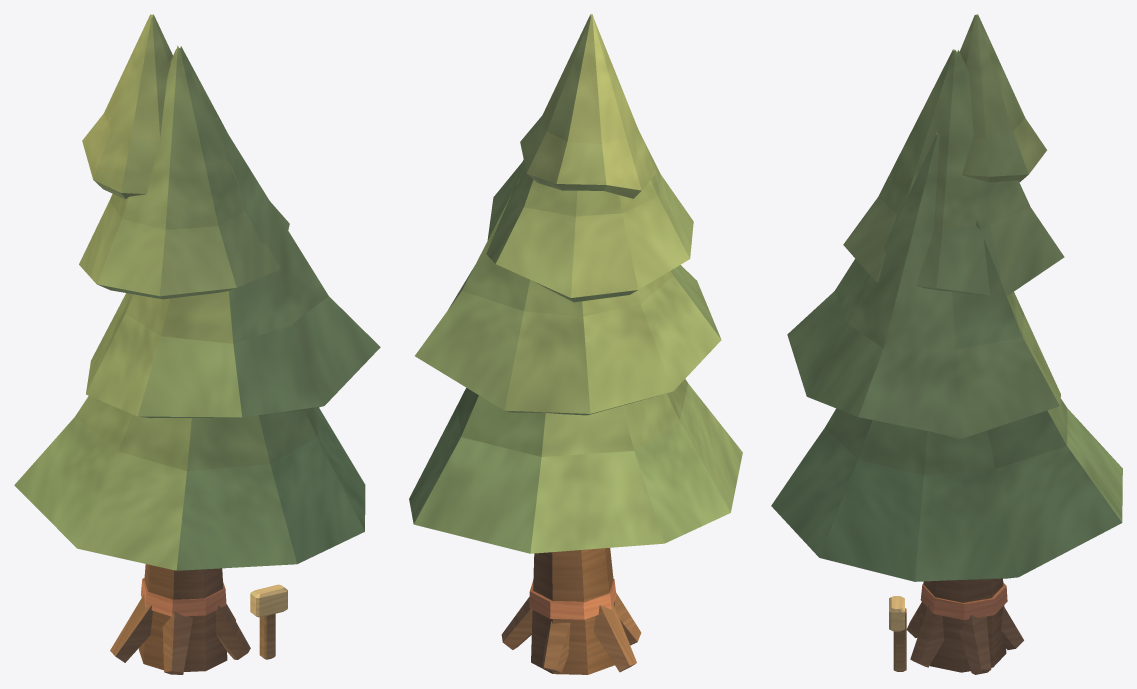
Rendered from wood_tree.glb.
The picture shows the model from 3 angles, left to right: view 1: azimuth 30°, elevation 25°; view 2: azimuth 150°, elevation 25°; view 3: azimuth 270°, elevation 25°; orthographic projection. The views are drawn at different scales.
Visible parts, largest first — view 1: Fällbare Kiefer; view 2: Fällbare Kiefer; view 3: Fällbare Kiefer.
Part boxes in pixels (<box>): Fällbare Kiefer: <box>14,14,380,674</box>; Fällbare Kiefer: <box>409,14,742,674</box>; Fällbare Kiefer: <box>771,14,1122,674</box>.
Bounding box in the file's own units: 2.06 × 4.41 × 2.23.
2 materials, 2 textured.
